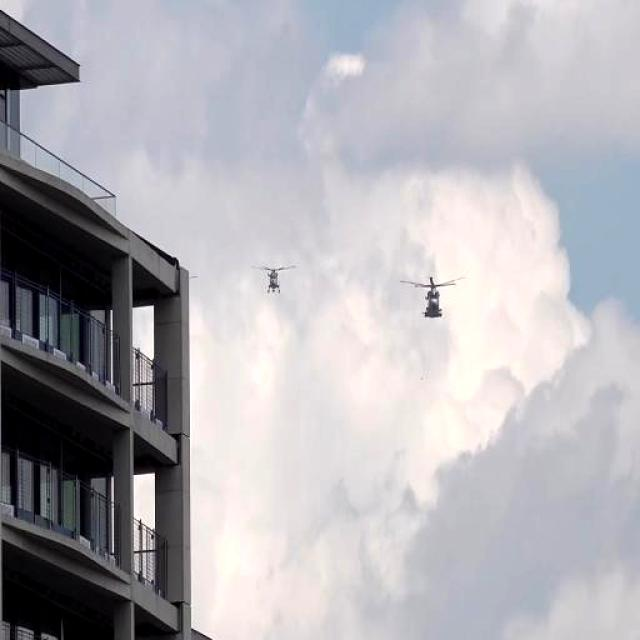drone: (398, 272, 469, 322), (251, 261, 298, 298)
